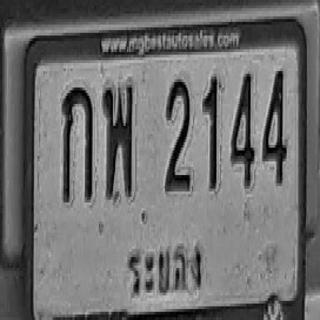A01: (62, 85, 92, 202)
A30: (102, 81, 133, 198)
N01: (203, 74, 220, 189)
N02: (165, 77, 191, 191)
N04: (262, 68, 287, 183), (230, 71, 254, 186)
P53: (124, 237, 205, 304)
